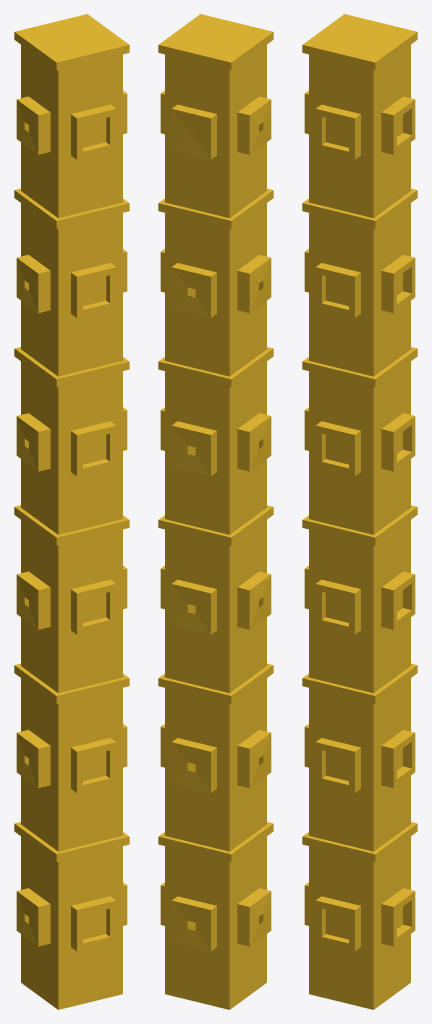
File: LaserPoll.fbx
3 views of the same model, side by side, from view 1: azimuth 30°, elevation 25°; view 2: azimuth 150°, elevation 25°; view 3: azimuth 330°, elevation 25° (orthographic).
Parts seen in each view (by area): view 1: Cube.020; view 2: Cube.020; view 3: Cube.020.
Part boxes in pixels (<box>): Cube.020: <box>14,14,129,1009</box>; Cube.020: <box>158,14,273,1009</box>; Cube.020: <box>302,14,417,1009</box>.
Size of the model in its own units: 50.58 by 512 by 48.09.
